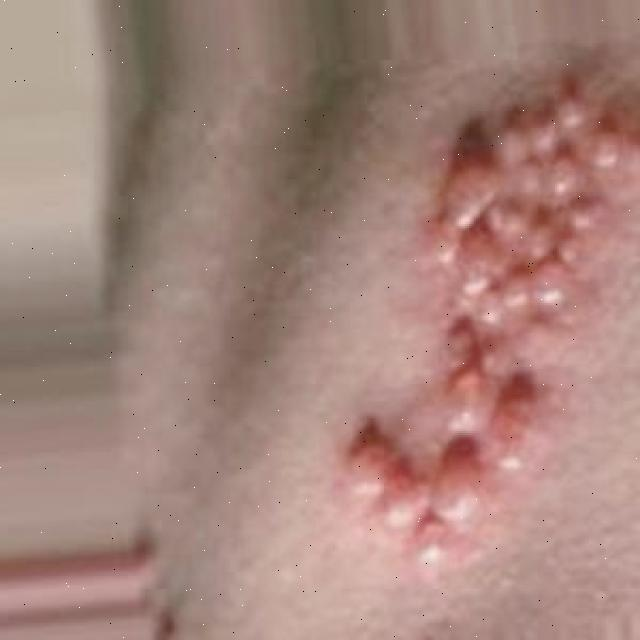Shingles: (345, 81, 640, 569)
